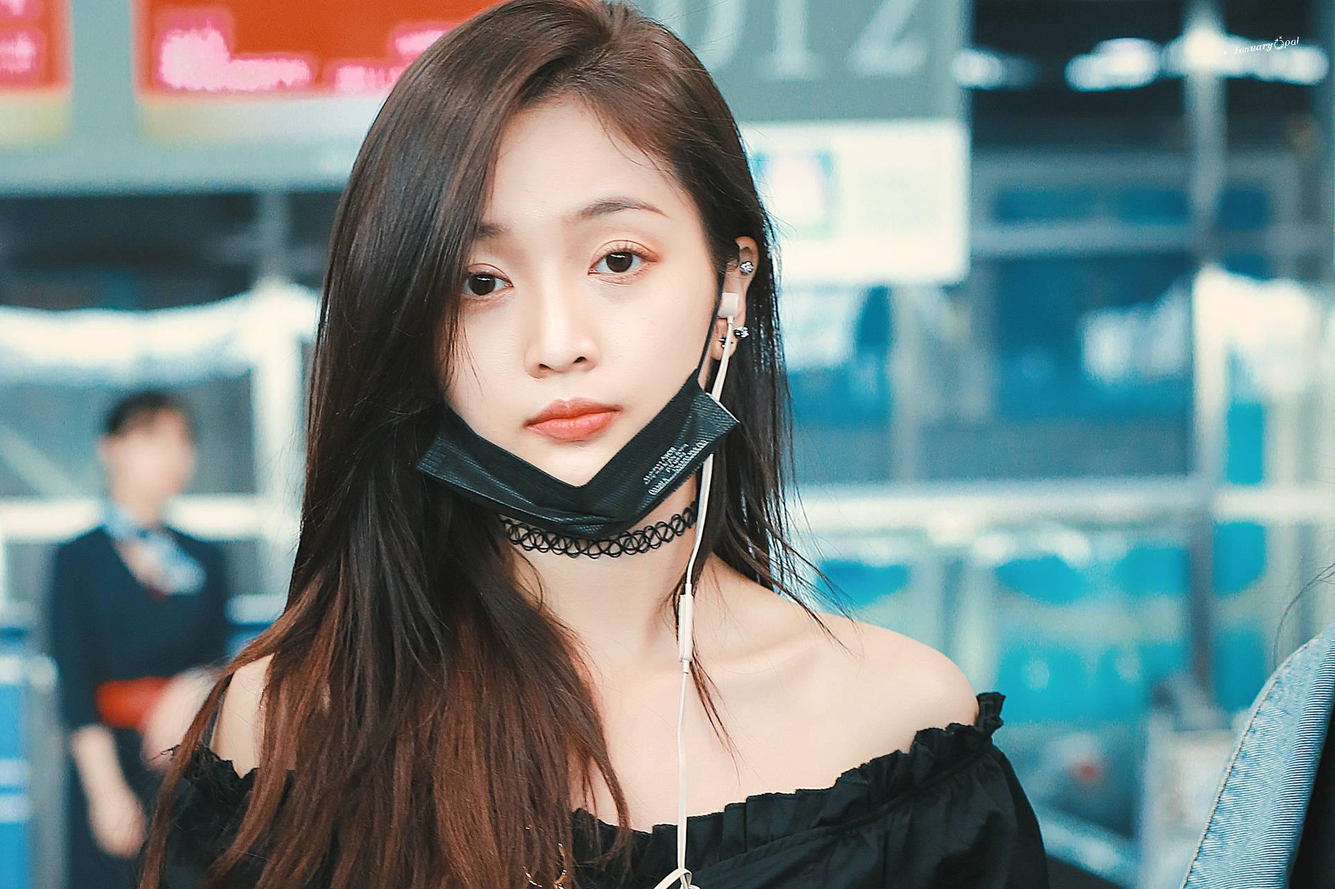NONE: (127, 413, 197, 495)
WRONG: (412, 144, 713, 524)
